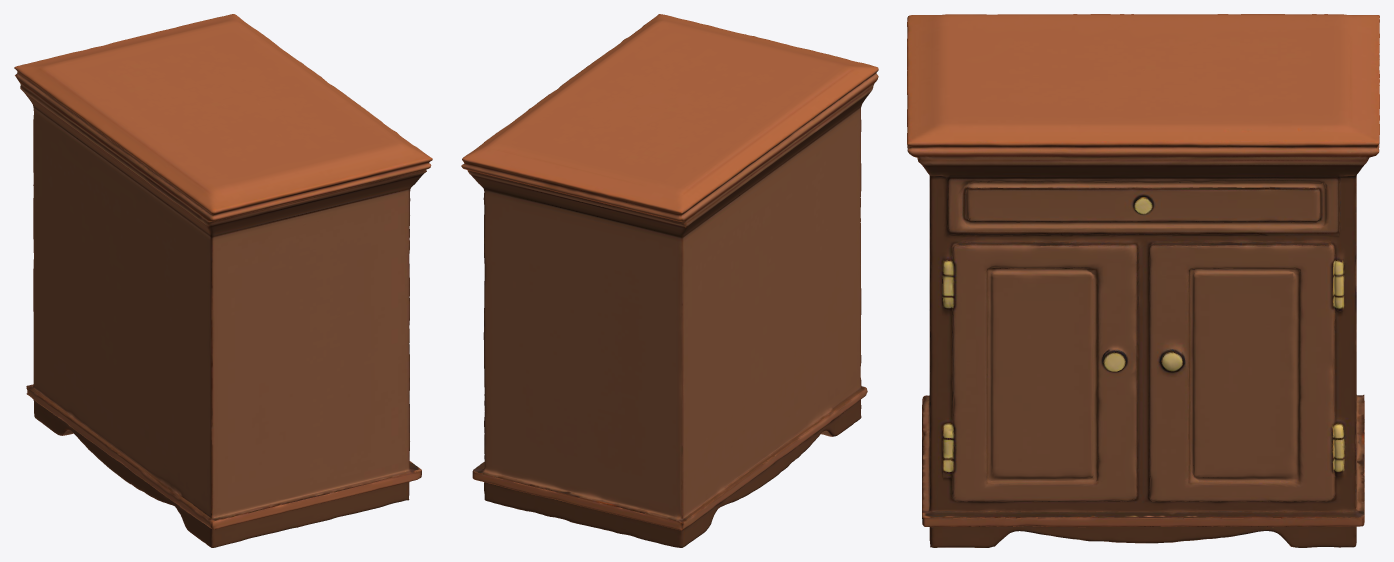
The model's file is nightstand+3d+model.fbx.
3 views of the same model, side by side, from view 1: azimuth 30°, elevation 25°; view 2: azimuth 150°, elevation 25°; view 3: azimuth 270°, elevation 25° (orthographic). The views are drawn at different scales.
Parts seen in each view (by area): view 1: tripo_node_eb75e7f4; view 2: tripo_node_eb75e7f4; view 3: tripo_node_eb75e7f4.
Part boxes in pixels (x1=…): tripo_node_eb75e7f4: x1=14, y1=14, x2=432, y2=547; tripo_node_eb75e7f4: x1=461, y1=14, x2=878, y2=547; tripo_node_eb75e7f4: x1=907, y1=14, x2=1379, y2=547.
Bounding box in the file's own units: 0.6432 × 0.983 × 0.9996.
Materials: 1 (1 with a texture image).
